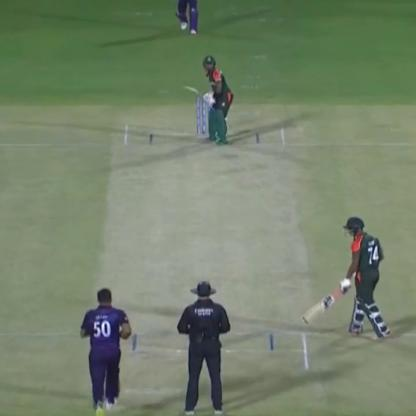bat: (308, 281, 346, 328), (181, 81, 217, 111)
pitch: (108, 125, 320, 376)
